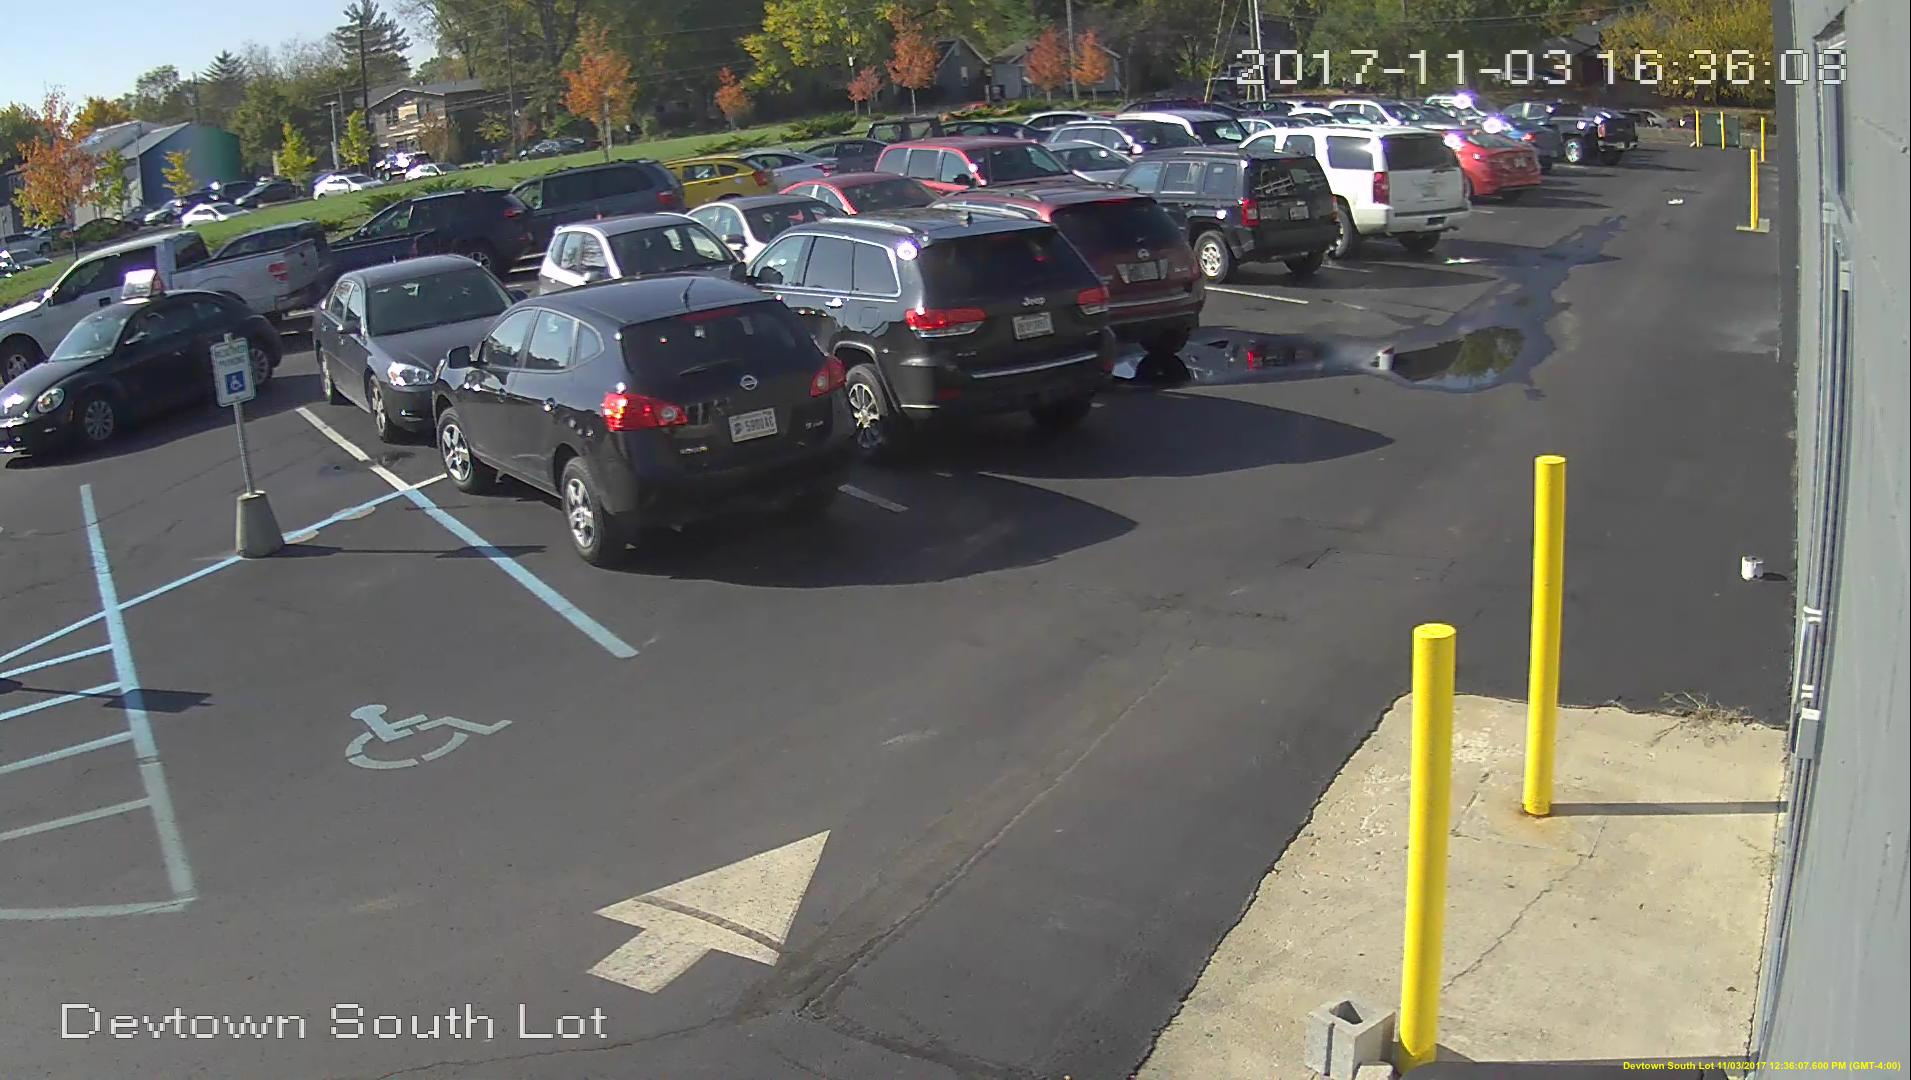jimmy_johns: (119, 265, 164, 306)
